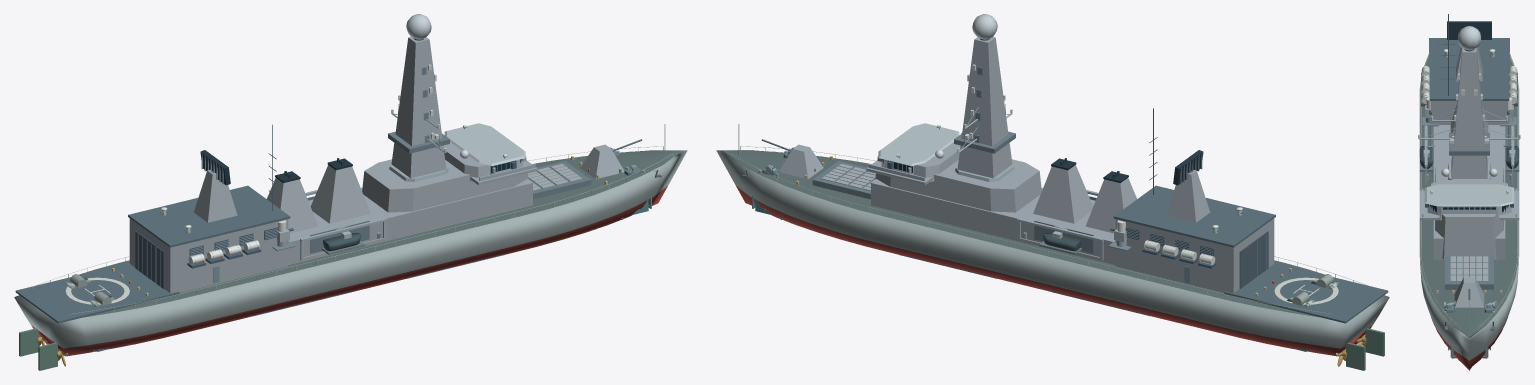
The model's file is hms-defender.lod0.glb.
3 renders of one model, left to right at view 1: azimuth 30°, elevation 25°; view 2: azimuth 150°, elevation 25°; view 3: azimuth 270°, elevation 25°, orthographic. The views are drawn at different scales.
Parts seen in each view (by area): view 1: hms-defender.structure.hull.outer-hull-shell.1, hms-defender.structure.decks.main-strength-deck.1, hms-defender.accommodation.naval-superstructure.enclosed-ami, hms-defender.cargo.aviation.helicopter-hangar.1, hms-defender.navigation.sensors.integrated-forward-mast.1, hms-defender.structure.hull.antifouling-underwater-shell.1, hms-defender.cargo.aviation.helicopter-landing-deck.1, hms-defender.cargo.aviation.hangar-roof.1, hms-defender.accommodation.naval-superstructure.forward-supe, hms-defender.propulsion.naval-uptakes.uptake-housing-1.1, hms-defender.navigation.bridge-detailing.bridge-roof-visor.1, hms-defender.propulsion.naval-uptakes.uptake-housing-2.1 (+6 smaller); view 2: hms-defender.structure.hull.outer-hull-shell.1, hms-defender.structure.decks.main-strength-deck.1, hms-defender.accommodation.naval-superstructure.enclosed-ami, hms-defender.cargo.aviation.helicopter-hangar.1, hms-defender.navigation.sensors.integrated-forward-mast.1, hms-defender.structure.hull.antifouling-underwater-shell.1, hms-defender.cargo.aviation.helicopter-landing-deck.1, hms-defender.cargo.aviation.hangar-roof.1, hms-defender.accommodation.naval-superstructure.forward-supe, hms-defender.propulsion.naval-uptakes.uptake-housing-1.1, hms-defender.navigation.bridge-detailing.bridge-roof-visor.1, hms-defender.propulsion.naval-uptakes.uptake-housing-2.1 (+6 smaller); view 3: hms-defender.structure.decks.main-strength-deck.1, hms-defender.navigation.sensors.integrated-forward-mast.1, hms-defender.cargo.aviation.hangar-roof.1, hms-defender.accommodation.naval-superstructure.forward-supe, hms-defender.structure.hull.outer-hull-shell.1, hms-defender.navigation.bridge-detailing.bridge-roof-visor.1, hms-defender.accommodation.naval-superstructure.enclosed-ami, hms-defender.cargo.aviation.helicopter-hangar.1, hms-defender.navigation.bridge.bridge-deck.1, hms-defender.cargo.mission-equipment.forward-gun-housing.1, hms-defender.cargo.mission-equipment.forward-mission-deck-co, hms-defender.navigation.sensors.s1850m-long-range-radar-face (+13 smaller).
Boxes of the visible parts, x1,y1,x2,y2 form: hms-defender.structure.hull.outer-hull-shell.1: [14, 150, 687, 348]; hms-defender.structure.decks.main-strength-deck.1: [79, 150, 681, 317]; hms-defender.accommodation.naval-superstructure.enclosed-ami: [288, 179, 532, 264]; hms-defender.cargo.aviation.helicopter-hangar.1: [129, 218, 288, 293]; hms-defender.navigation.sensors.integrated-forward-mast.1: [391, 37, 446, 178]; hms-defender.structure.hull.antifouling-underwater-shell.1: [31, 186, 667, 356]; hms-defender.cargo.aviation.helicopter-landing-deck.1: [15, 263, 179, 323]; hms-defender.cargo.aviation.hangar-roof.1: [128, 185, 290, 247]; hms-defender.accommodation.naval-superstructure.forward-supe: [362, 156, 528, 212]; hms-defender.propulsion.naval-uptakes.uptake-housing-1.1: [310, 165, 370, 223]; hms-defender.navigation.bridge-detailing.bridge-roof-visor.1: [444, 123, 525, 166]; hms-defender.propulsion.naval-uptakes.uptake-housing-2.1: [267, 178, 318, 233]; hms-defender.structure.hull.outer-hull-shell.1: [716, 150, 1389, 348]; hms-defender.structure.decks.main-strength-deck.1: [722, 150, 1324, 317]; hms-defender.accommodation.naval-superstructure.enclosed-ami: [871, 179, 1115, 264]; hms-defender.cargo.aviation.helicopter-hangar.1: [1115, 218, 1274, 293]; hms-defender.navigation.sensors.integrated-forward-mast.1: [957, 37, 1012, 178]; hms-defender.structure.hull.antifouling-underwater-shell.1: [736, 186, 1372, 356]; hms-defender.cargo.aviation.helicopter-landing-deck.1: [1224, 263, 1388, 323]; hms-defender.cargo.aviation.hangar-roof.1: [1113, 185, 1275, 247]; hms-defender.accommodation.naval-superstructure.forward-supe: [875, 156, 1041, 212]; hms-defender.propulsion.naval-uptakes.uptake-housing-1.1: [1033, 165, 1093, 223]; hms-defender.navigation.bridge-detailing.bridge-roof-visor.1: [878, 123, 959, 166]; hms-defender.propulsion.naval-uptakes.uptake-housing-2.1: [1085, 178, 1136, 233]; hms-defender.structure.decks.main-strength-deck.1: [1420, 58, 1518, 337]; hms-defender.navigation.sensors.integrated-forward-mast.1: [1451, 48, 1487, 178]; hms-defender.cargo.aviation.hangar-roof.1: [1429, 43, 1509, 100]; hms-defender.accommodation.naval-superstructure.forward-supe: [1435, 154, 1503, 259]; hms-defender.structure.hull.outer-hull-shell.1: [1419, 54, 1519, 360]; hms-defender.navigation.bridge-detailing.bridge-roof-visor.1: [1424, 184, 1514, 206]; hms-defender.accommodation.naval-superstructure.enclosed-ami: [1433, 125, 1505, 259]; hms-defender.cargo.aviation.helicopter-hangar.1: [1431, 101, 1507, 145]; hms-defender.navigation.bridge.bridge-deck.1: [1430, 180, 1508, 220]; hms-defender.cargo.mission-equipment.forward-gun-housing.1: [1454, 277, 1484, 307]; hms-defender.cargo.mission-equipment.forward-mission-deck-co: [1445, 256, 1493, 289]; hms-defender.navigation.sensors.s1850m-long-range-radar-face: [1447, 21, 1491, 39].
Bounding box in the file's own units: 153 × 56.21 × 21.76.
